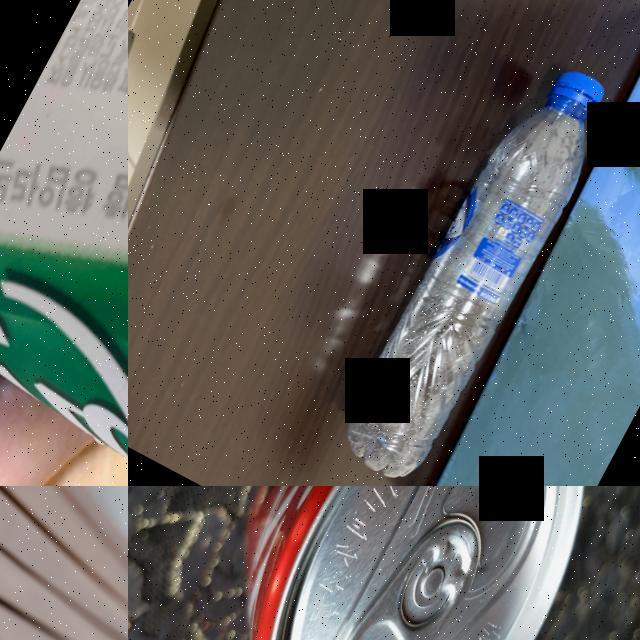bottle: (324, 44, 627, 486)
can: (134, 486, 640, 640), (0, 0, 128, 486)
